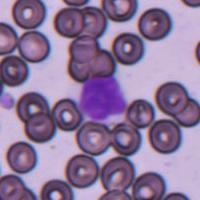M: (78, 74, 127, 123)
